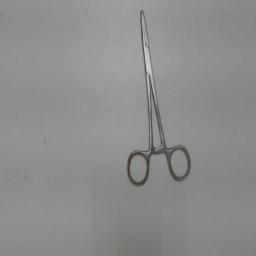Mayo Needle Holder: (123, 6, 195, 190)
